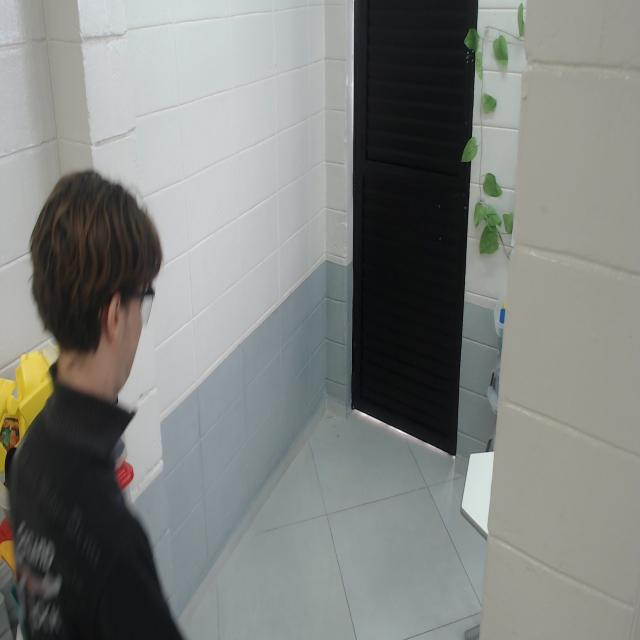oculos-epi: (121, 284, 155, 327)
